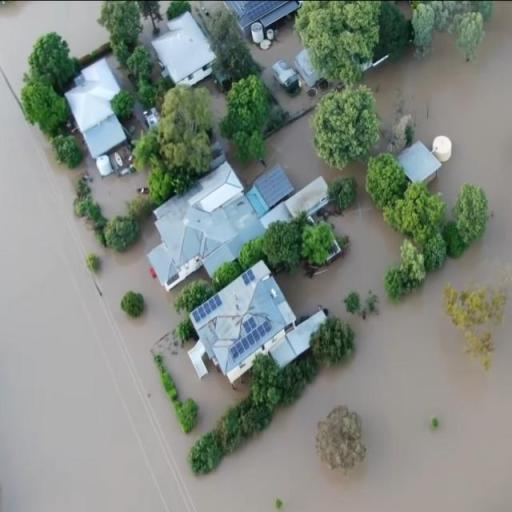flood: (0, 2, 512, 512), (245, 15, 320, 119), (194, 74, 227, 128), (192, 2, 224, 29), (139, 17, 152, 47)
house: (180, 258, 314, 388), (146, 167, 251, 301), (62, 54, 139, 162), (141, 4, 221, 106), (228, 4, 308, 50), (392, 138, 444, 188)
